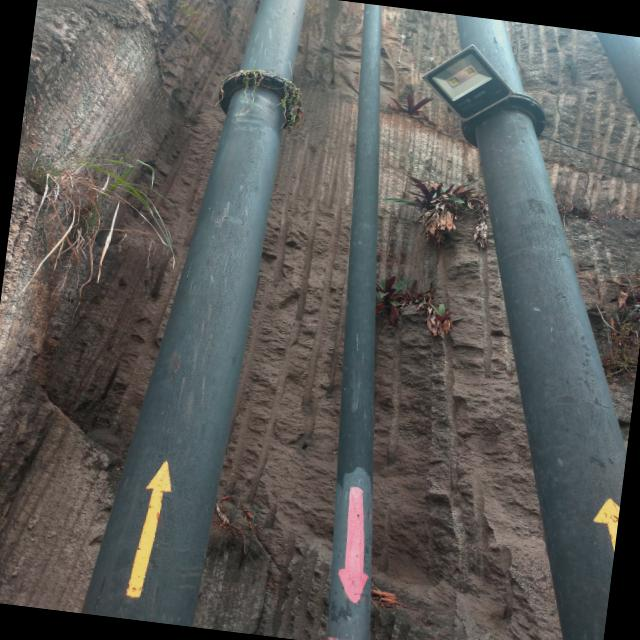gas: (80, 0, 304, 627), (455, 14, 627, 640), (325, 3, 381, 640), (598, 32, 640, 113)
